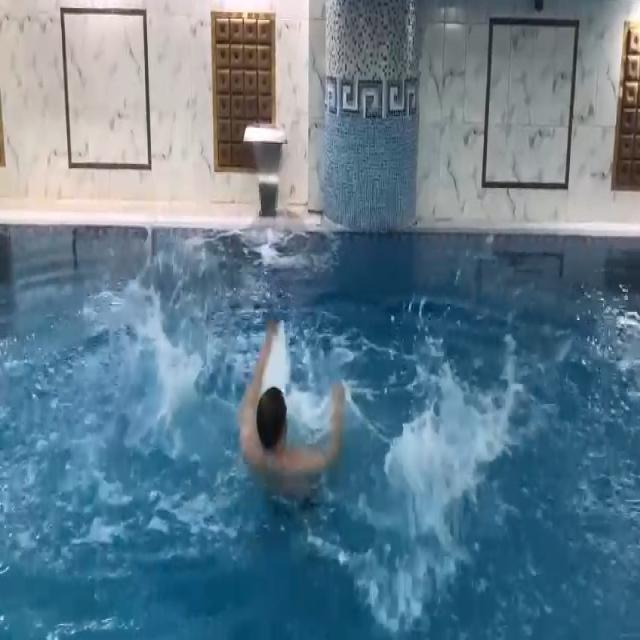Drowning: (240, 318, 346, 500)
